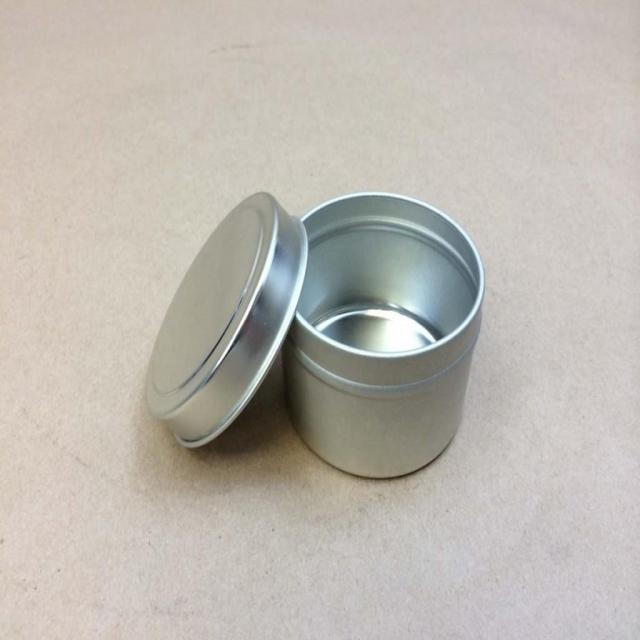metel: (145, 162, 481, 509)
